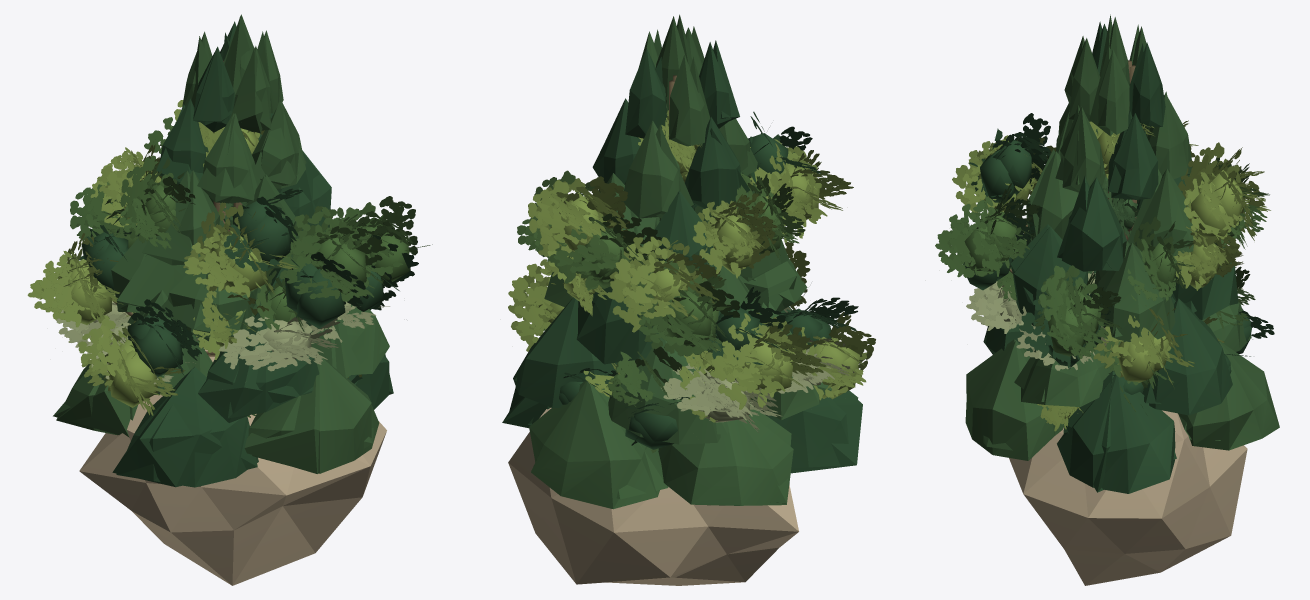
File: vegetation.glb
3 views of the same model, side by side, from view 1: azimuth 30°, elevation 25°; view 2: azimuth 150°, elevation 25°; view 3: azimuth 270°, elevation 25° (orthographic). The views are drawn at different scales.
Parts seen in each view (by area): view 1: pine, pine_distant, rock, oak, oak_distant, beech, olive, olive_distant, beech_distant; view 2: pine, oak, rock, beech, pine_distant, oak_distant, olive_distant, olive, beech_distant; view 3: pine, rock, oak, oak_distant, pine_distant, beech, olive, beech_distant, olive_distant, cypress_distant, cypress.
Part boxes in pixels (x1=…): pine: x1=56, y1=14, x2=389, y2=487; pine_distant: x1=53, y1=16, x2=393, y2=487; rock: x1=79, y1=338, x2=386, y2=585; oak: x1=27, y1=100, x2=417, y2=405; oak_distant: x1=41, y1=128, x2=432, y2=415; beech: x1=97, y1=123, x2=348, y2=377; olive: x1=55, y1=301, x2=389, y2=384; olive_distant: x1=56, y1=295, x2=323, y2=365; beech_distant: x1=120, y1=122, x2=361, y2=377; pine: x1=502, y1=16, x2=858, y2=509; oak: x1=508, y1=111, x2=875, y2=409; rock: x1=508, y1=407, x2=798, y2=585; beech: x1=537, y1=110, x2=809, y2=422; pine_distant: x1=514, y1=14, x2=862, y2=503; oak_distant: x1=517, y1=134, x2=873, y2=399; olive_distant: x1=560, y1=307, x2=834, y2=441; olive: x1=559, y1=309, x2=854, y2=449; beech_distant: x1=564, y1=133, x2=810, y2=410; pine: x1=965, y1=17, x2=1279, y2=493; rock: x1=1009, y1=410, x2=1247, y2=585; oak: x1=948, y1=113, x2=1270, y2=388; oak_distant: x1=935, y1=125, x2=1253, y2=389; pine_distant: x1=966, y1=14, x2=1220, y2=492; beech: x1=997, y1=120, x2=1255, y2=428; olive: x1=966, y1=261, x2=1274, y2=393; beech_distant: x1=1001, y1=232, x2=1248, y2=431; olive_distant: x1=971, y1=253, x2=1250, y2=394; cypress_distant: x1=1117, y1=65, x2=1145, y2=240; cypress: x1=1094, y1=60, x2=1147, y2=278.
Size of the model in its own units: 0.949 by 1.28 by 0.7951.
Materials: 2 (1 with a texture image).
